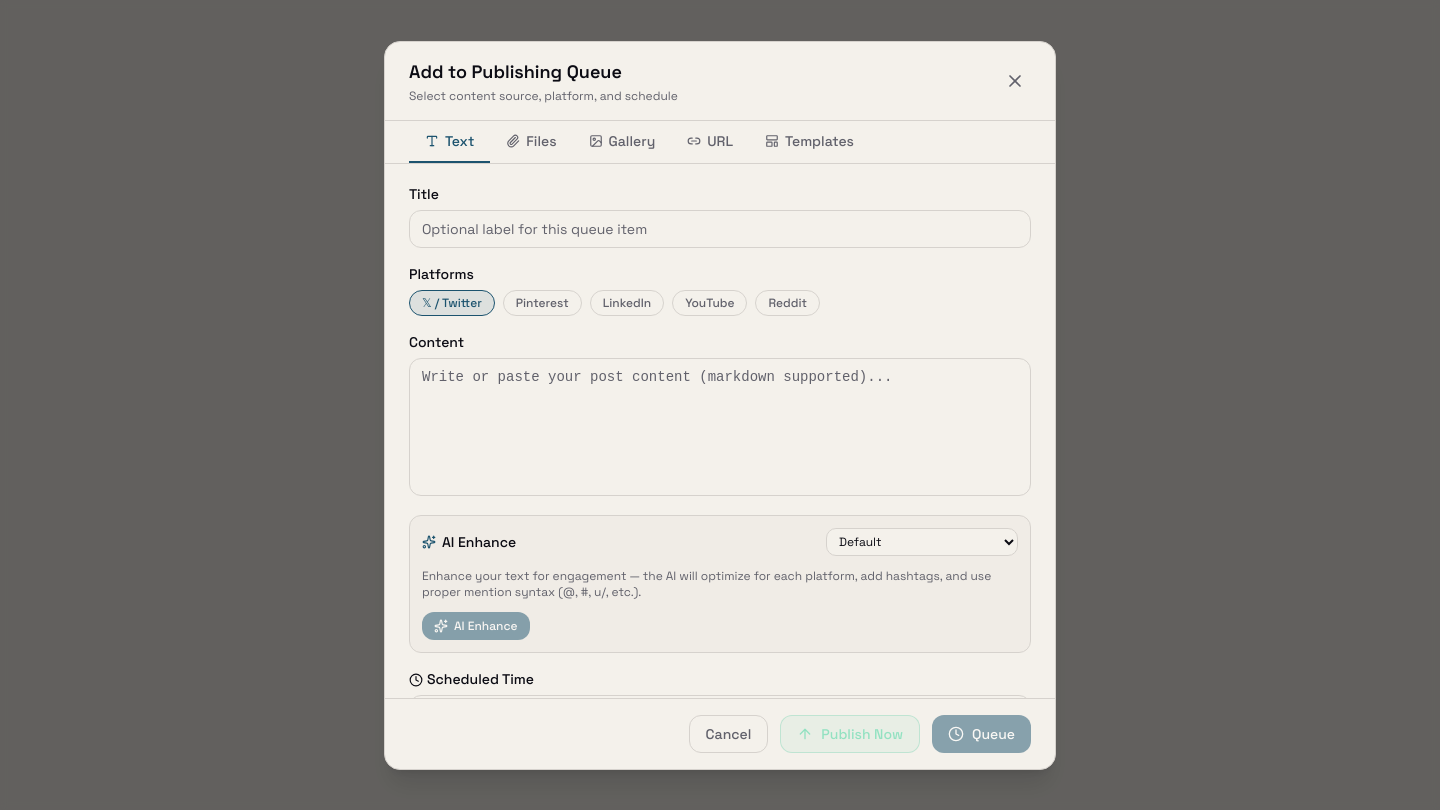
Test: AddToOutboxModal › shows multiple platform count in submit button
The image size is (1440, 810).
// Wait for connected platforms to load, then select a second platform
Click the button "LinkedIn".
click(627, 302)  # box x1=590 y1=290 x2=664 y2=316
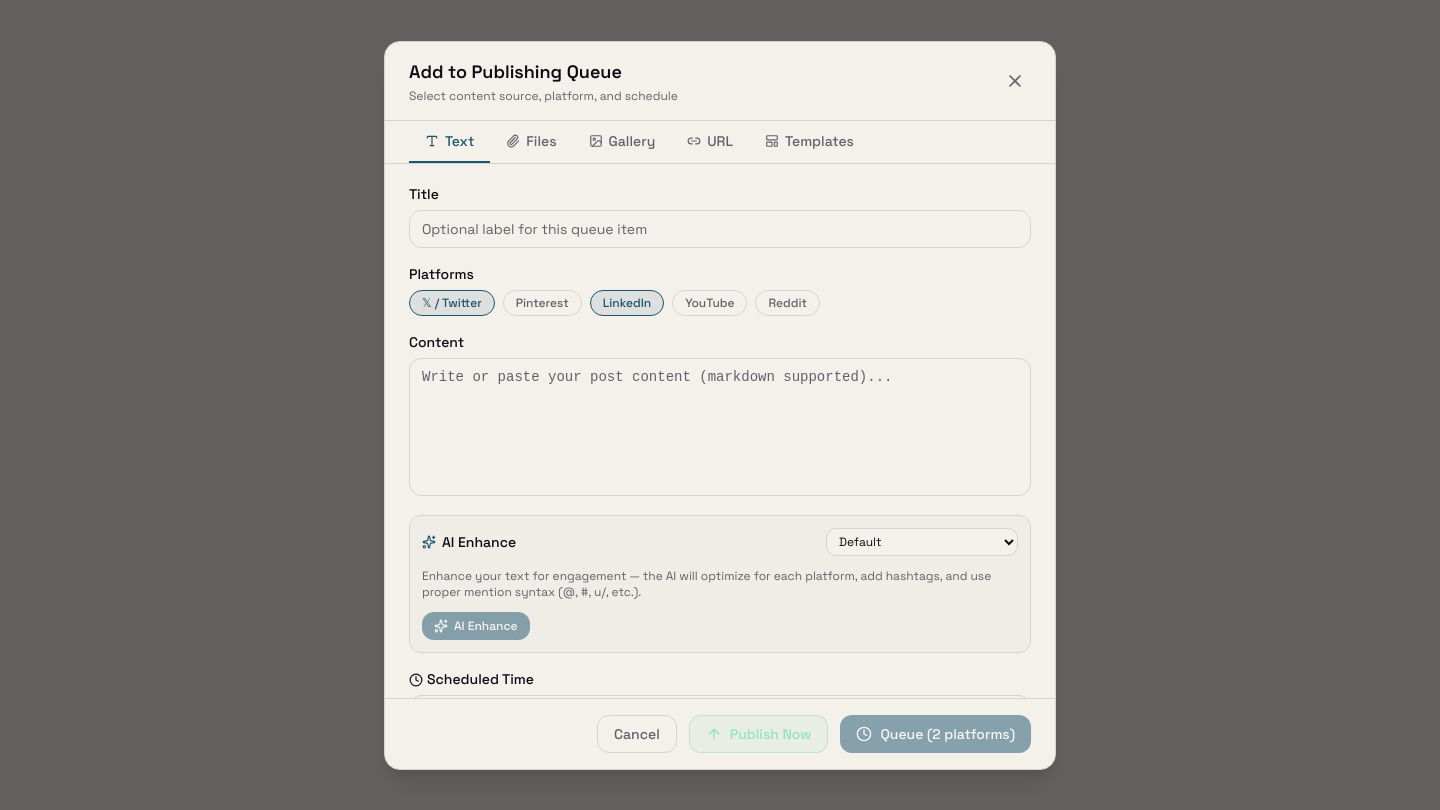
Result: the button "Queue (2 platforms)" is shown at x1=840 y1=714 x2=1031 y2=752
